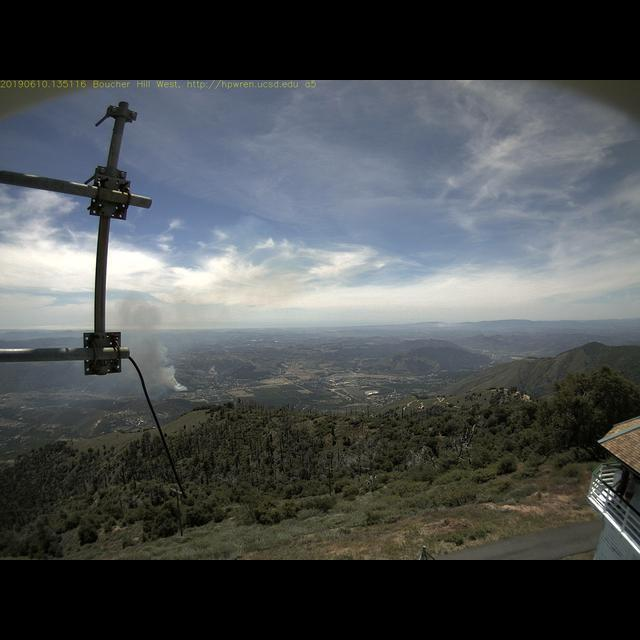Smoke: (123, 294, 190, 393)
